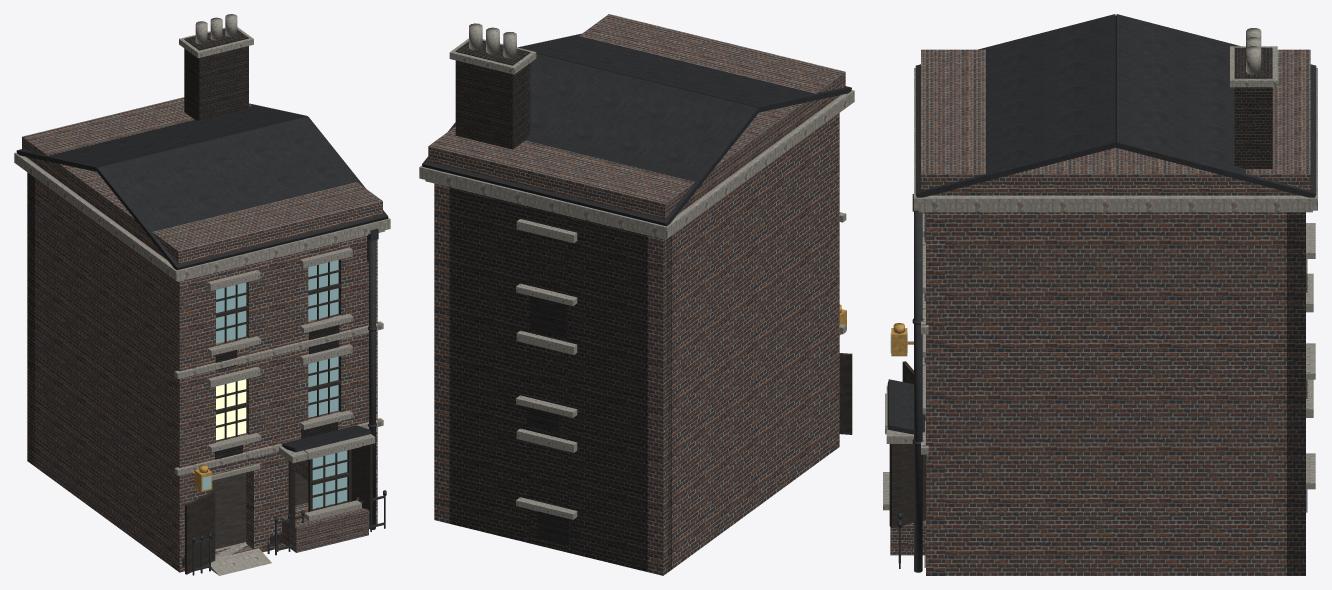
Rendered from prop_ashmoor_rowhouse.glb.
3 renders of one model, left to right at view 1: azimuth 30°, elevation 25°; view 2: azimuth 150°, elevation 25°; view 3: azimuth 270°, elevation 25°, orthographic. The views are drawn at different scales.
Parts seen in each view (by area): view 1: building_ashmoor_rowhouse; view 2: building_ashmoor_rowhouse; view 3: building_ashmoor_rowhouse.
Boxes of the visible parts, x1,y1,x2,y2 form: building_ashmoor_rowhouse: [14, 14, 390, 575]; building_ashmoor_rowhouse: [419, 14, 854, 575]; building_ashmoor_rowhouse: [883, 14, 1317, 575].
Size of the model in its own units: 6.5 by 12.02 by 9.15.
Materials: 11 (11 with a texture image).
